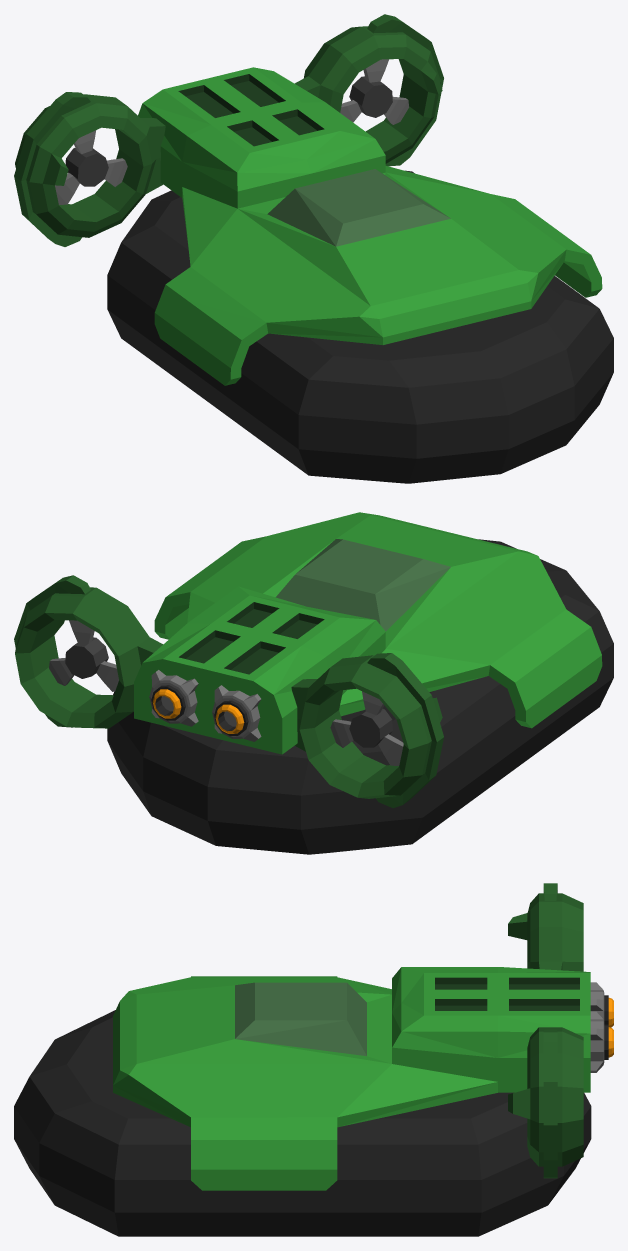
File: hovercraft_base.fbx
The picture shows the model from 3 angles, top to bottom: view 1: azimuth 30°, elevation 25°; view 2: azimuth 150°, elevation 25°; view 3: azimuth 270°, elevation 25°; orthographic projection. The views are drawn at different scales.
Parts seen in each view (by area): view 1: Plane.008, Cube.076, Torus.002, Cylinder.080; view 2: Plane.008, Cube.076, Torus.002, Cylinder.080, Cylinder.077; view 3: Plane.008, Cube.076, Torus.002, Cylinder.077.
Part boxes in pixels (box(x1,y1,x2,y2)): Plane.008: box(138, 67, 602, 385); Cube.076: box(107, 170, 613, 483); Torus.002: box(14, 14, 443, 246); Cylinder.080: box(55, 59, 408, 204); Plane.008: box(134, 512, 602, 754); Cube.076: box(107, 539, 613, 854); Torus.002: box(14, 575, 443, 808); Cylinder.080: box(49, 620, 403, 765); Cylinder.077: box(149, 670, 261, 741); Plane.008: box(113, 967, 590, 1190); Cube.076: box(14, 1010, 591, 1236); Torus.002: box(508, 883, 583, 1178); Cylinder.077: box(590, 982, 613, 1072).
Size of the model in its own units: 189 by 99.34 by 242.
